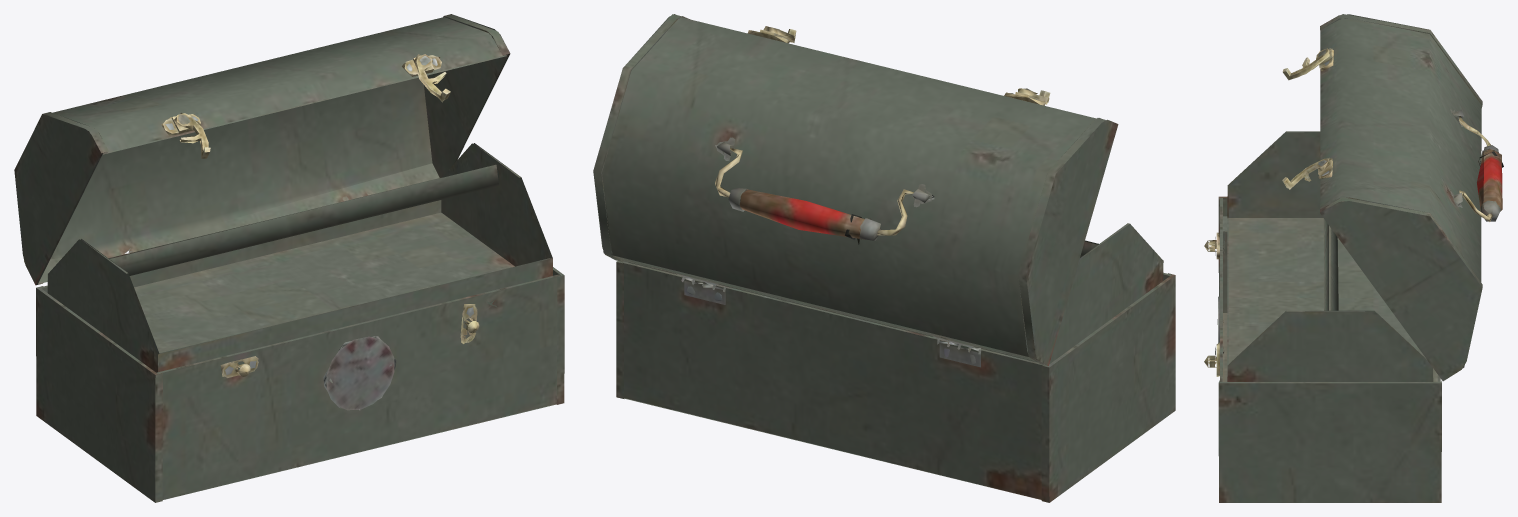
File: metal_toolbox.glb
The picture shows the model from 3 angles, left to right: view 1: azimuth 30°, elevation 25°; view 2: azimuth 150°, elevation 25°; view 3: azimuth 270°, elevation 25°; orthographic projection. The views are drawn at different scales.
Parts seen in each view (by area): view 1: CC0_metal_toolbox; view 2: CC0_metal_toolbox; view 3: CC0_metal_toolbox.
Boxes of the visible parts, <box> form: CC0_metal_toolbox: <box>14,14,564,502</box>; CC0_metal_toolbox: <box>593,14,1175,502</box>; CC0_metal_toolbox: <box>1204,14,1503,502</box>.
Bounding box in the file's own units: 0.48 × 0.3666 × 0.3259.
Materials: 1 (1 with a texture image).
